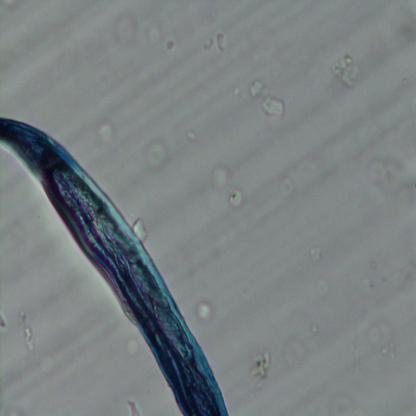Background material: (362, 151, 416, 209), (354, 308, 402, 360), (143, 138, 174, 176), (143, 22, 179, 54), (331, 51, 359, 88), (283, 332, 311, 367), (248, 350, 272, 384), (388, 10, 414, 39), (94, 119, 119, 143), (20, 312, 35, 352), (204, 30, 228, 54), (263, 95, 287, 118), (212, 160, 231, 188), (228, 184, 247, 211), (196, 301, 216, 325), (249, 78, 264, 98), (134, 220, 149, 240), (311, 244, 323, 264), (127, 398, 140, 415)
Cotton: (0, 116, 230, 416)
